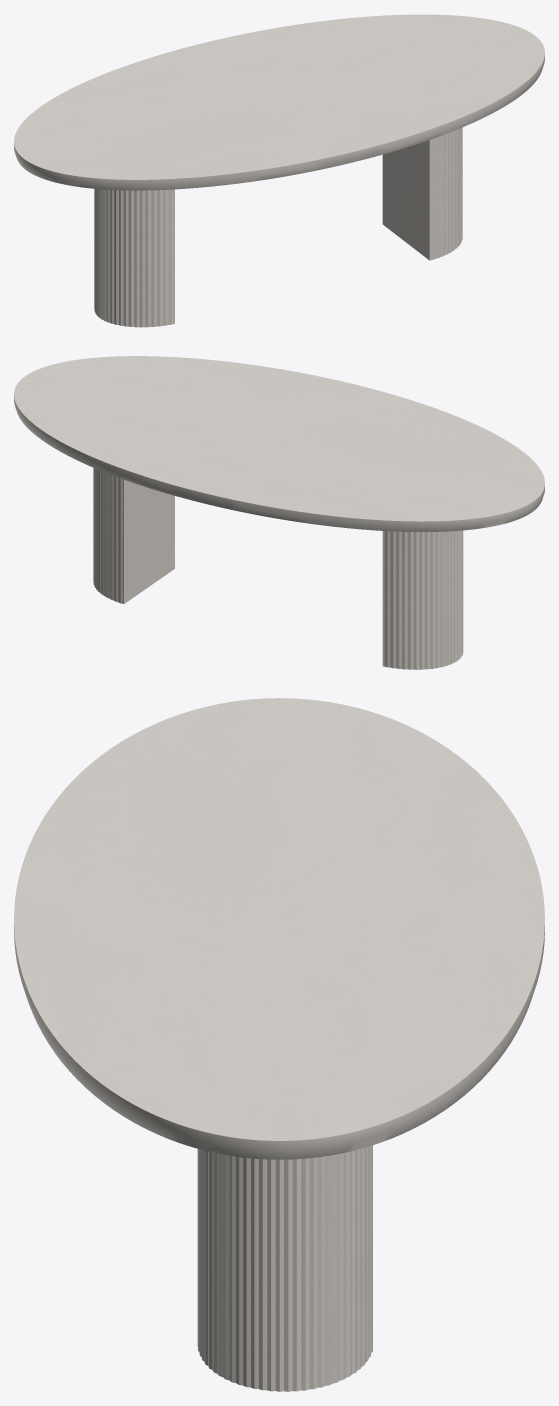
Rendered from pearlwhite_ellips_facet_flute.glb.
3 views of the same model, one above another, from view 1: azimuth 30°, elevation 25°; view 2: azimuth 150°, elevation 25°; view 3: azimuth 270°, elevation 25° (orthographic). The views are drawn at different scales.
Parts seen in each view (by area): view 1: tabletop_ellips_facet.011, tableleg_flute.032; view 2: tabletop_ellips_facet.011, tableleg_flute.032; view 3: tabletop_ellips_facet.011, tableleg_flute.032.
Boxes of the visible parts, x1=… form: tabletop_ellips_facet.011: x1=14, y1=14, x2=544, y2=190; tableleg_flute.032: x1=94, y1=127, x2=462, y2=327; tabletop_ellips_facet.011: x1=14, y1=356, x2=544, y2=531; tableleg_flute.032: x1=93, y1=468, x2=463, y2=669; tabletop_ellips_facet.011: x1=14, y1=698, x2=544, y2=1159; tableleg_flute.032: x1=197, y1=1145, x2=372, y2=1391.
Size of the model in its own units: 7.5 by 2.5 by 3.8.
1 material, 1 textured.
